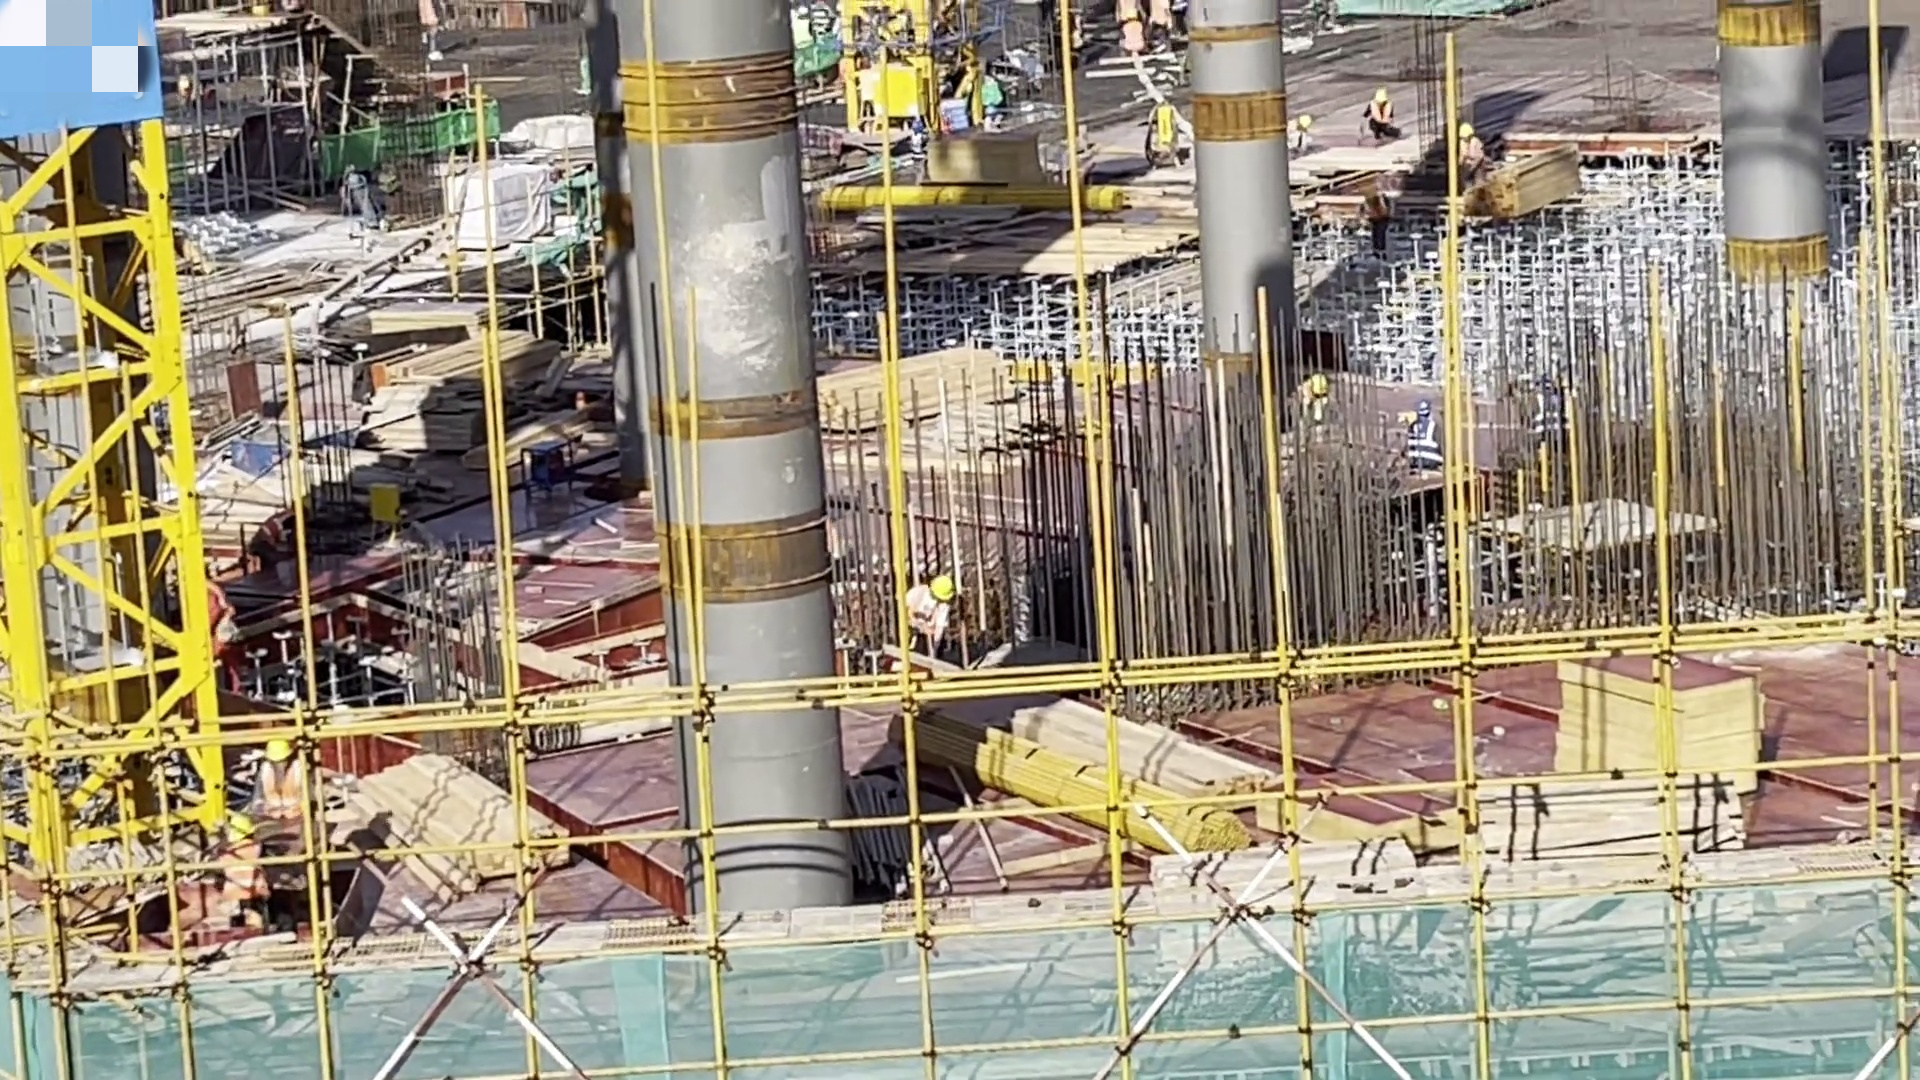ebox: (866, 63, 933, 129), (1143, 96, 1175, 171), (365, 483, 402, 529)
helmet: (925, 561, 955, 598), (258, 738, 292, 772), (1310, 368, 1332, 391), (1292, 110, 1319, 126), (1459, 117, 1478, 140), (1377, 81, 1390, 106), (1416, 399, 1436, 414)
person: (249, 717, 310, 875), (906, 555, 961, 660), (1367, 92, 1418, 152), (1409, 392, 1436, 470), (1295, 362, 1329, 425), (1453, 116, 1492, 171), (1281, 109, 1312, 157)
vest: (255, 770, 306, 811), (908, 588, 951, 635), (1301, 383, 1328, 418), (1411, 417, 1433, 455), (1372, 104, 1393, 117)
wood: (357, 750, 572, 878), (815, 342, 1018, 430)
